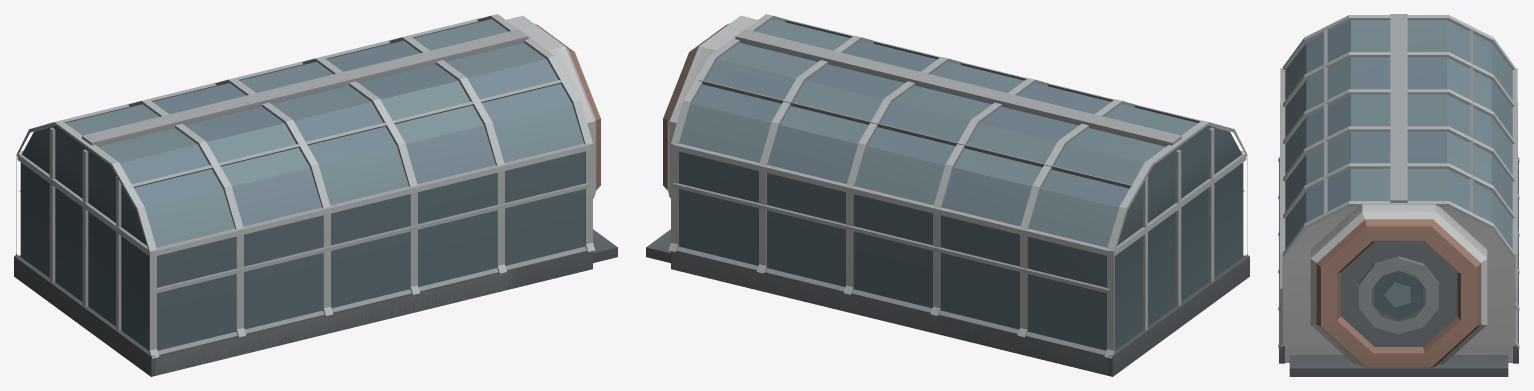
Rendered from gmod.lod1.glb.
The picture shows the model from 3 angles, left to right: view 1: azimuth 30°, elevation 25°; view 2: azimuth 150°, elevation 25°; view 3: azimuth 270°, elevation 25°; orthographic projection. The views are drawn at different scales.
Size of the model in its own units: 11.17 by 4.2 by 5.64.
